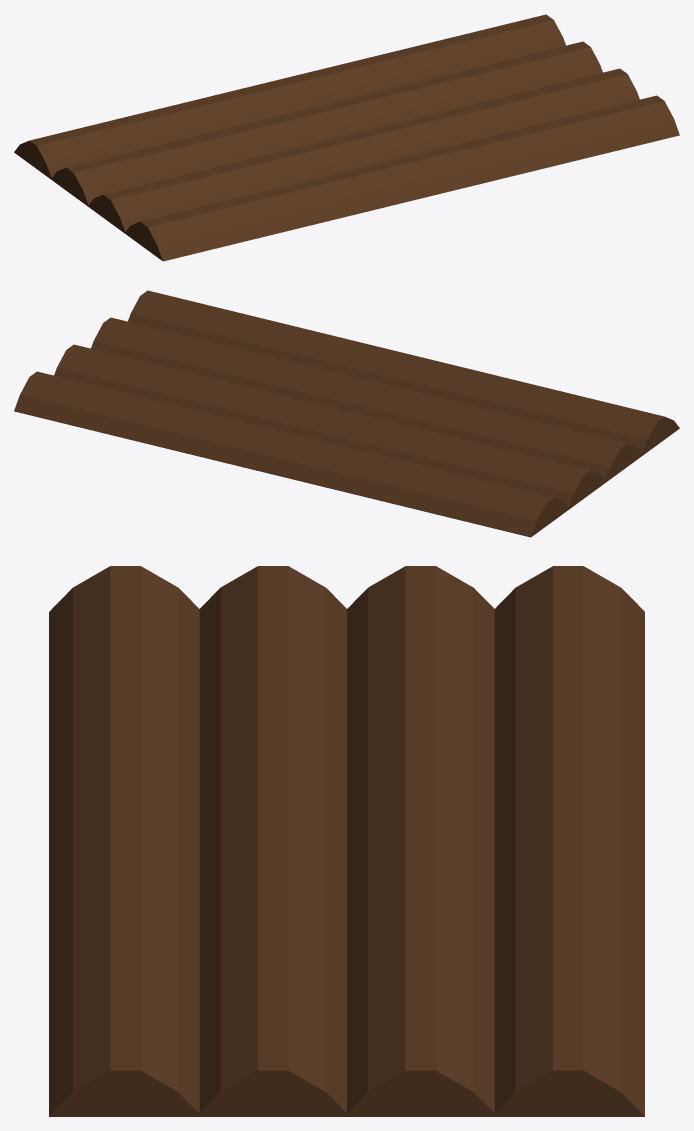
The model's file is Oogst.fbx.
The picture shows the model from 3 angles, top to bottom: view 1: azimuth 30°, elevation 25°; view 2: azimuth 150°, elevation 25°; view 3: azimuth 270°, elevation 25°; orthographic projection. The views are drawn at different scales.
Visible parts, largest first — view 1: Cube.001; view 2: Cube.001; view 3: Cube.001.
Part boxes in pixels (<box>): Cube.001: <box>14,14,679,261</box>; Cube.001: <box>14,290,679,537</box>; Cube.001: <box>49,566,644,1116</box>.
Bounding box in the file's own units: 753 × 32.18 × 376.
